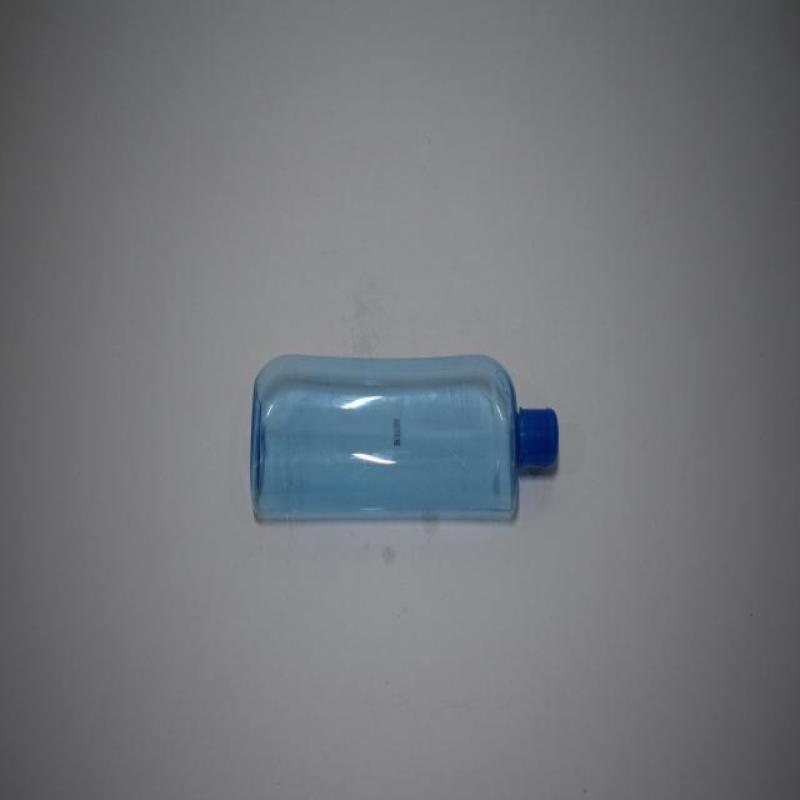botella: (250, 347, 559, 535)
